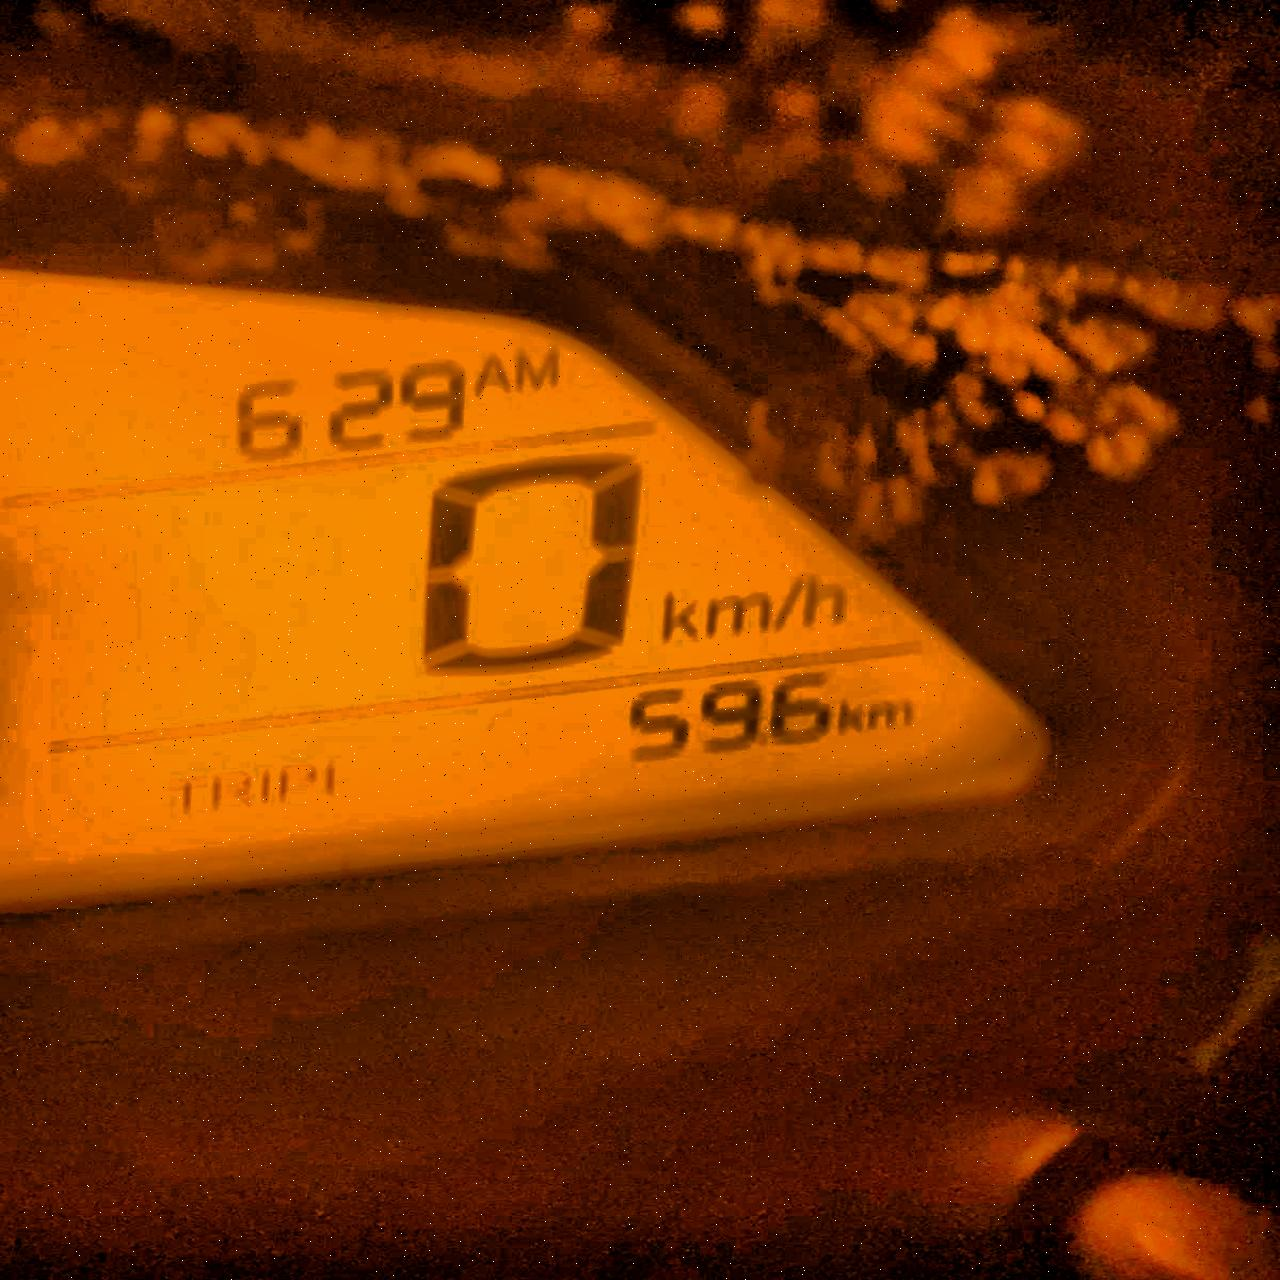0: (425, 456, 635, 682)
1: (321, 756, 346, 812)
2: (326, 366, 392, 448)
5: (624, 687, 688, 761)
6: (226, 370, 309, 459), (774, 670, 830, 740)
9: (399, 356, 463, 442), (699, 679, 755, 757)
X: (704, 591, 767, 638), (658, 586, 703, 644), (805, 570, 851, 626), (210, 768, 253, 818), (162, 768, 204, 816), (772, 573, 805, 634), (515, 347, 558, 393), (278, 757, 315, 810), (470, 356, 517, 397), (870, 699, 919, 731), (836, 694, 867, 737), (259, 755, 274, 823)
odometer: (0, 260, 1062, 911)
